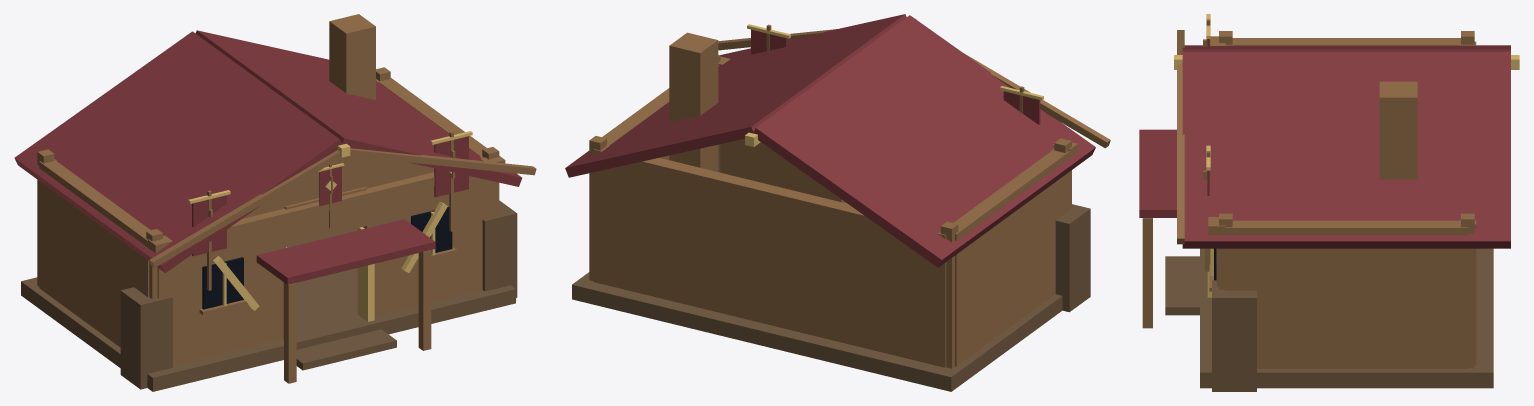
Rendered from hall_human_lv2.glb.
3 renders of one model, left to right at view 1: azimuth 30°, elevation 25°; view 2: azimuth 150°, elevation 25°; view 3: azimuth 270°, elevation 25°, orthographic. The views are drawn at different scales.
Parts seen in each view (by area): view 1: hall_human_lv2; view 2: hall_human_lv2; view 3: hall_human_lv2.
Part boxes in pixels (bbox=[...]): hall_human_lv2: bbox=[14, 14, 536, 391]; hall_human_lv2: bbox=[565, 14, 1110, 391]; hall_human_lv2: bbox=[1139, 14, 1519, 391].
Bounding box in the file's own units: 28.54 × 16.5 × 22.
